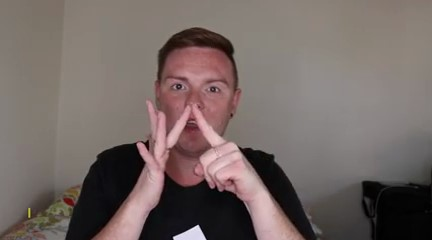I: (129, 95, 262, 205)
